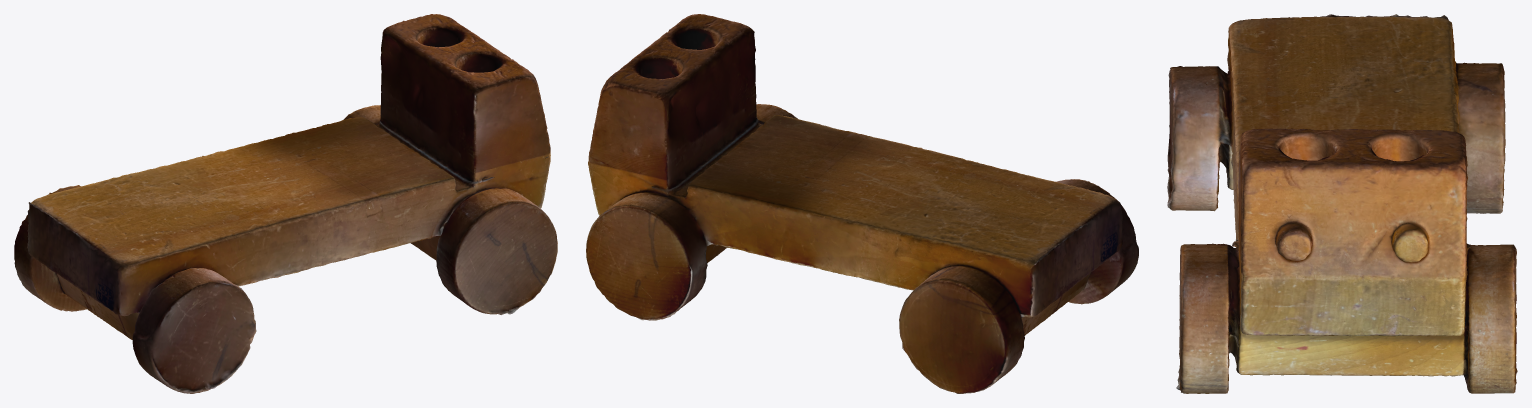
The model's file is Woodentruck.fbx.
3 views of the same model, side by side, from view 1: azimuth 30°, elevation 25°; view 2: azimuth 150°, elevation 25°; view 3: azimuth 270°, elevation 25° (orthographic). The views are drawn at different scales.
Visible parts, largest first — view 1: textured; view 2: textured; view 3: textured.
Boxes of the visible parts, x1=… form: textured: x1=14, y1=14, x2=557, y2=393; textured: x1=586, y1=14, x2=1138, y2=393; textured: x1=1167, y1=14, x2=1517, y2=393.
Bounding box in the file's own units: 0.3349 × 0.1528 × 0.1853.
1 material, 1 textured.
